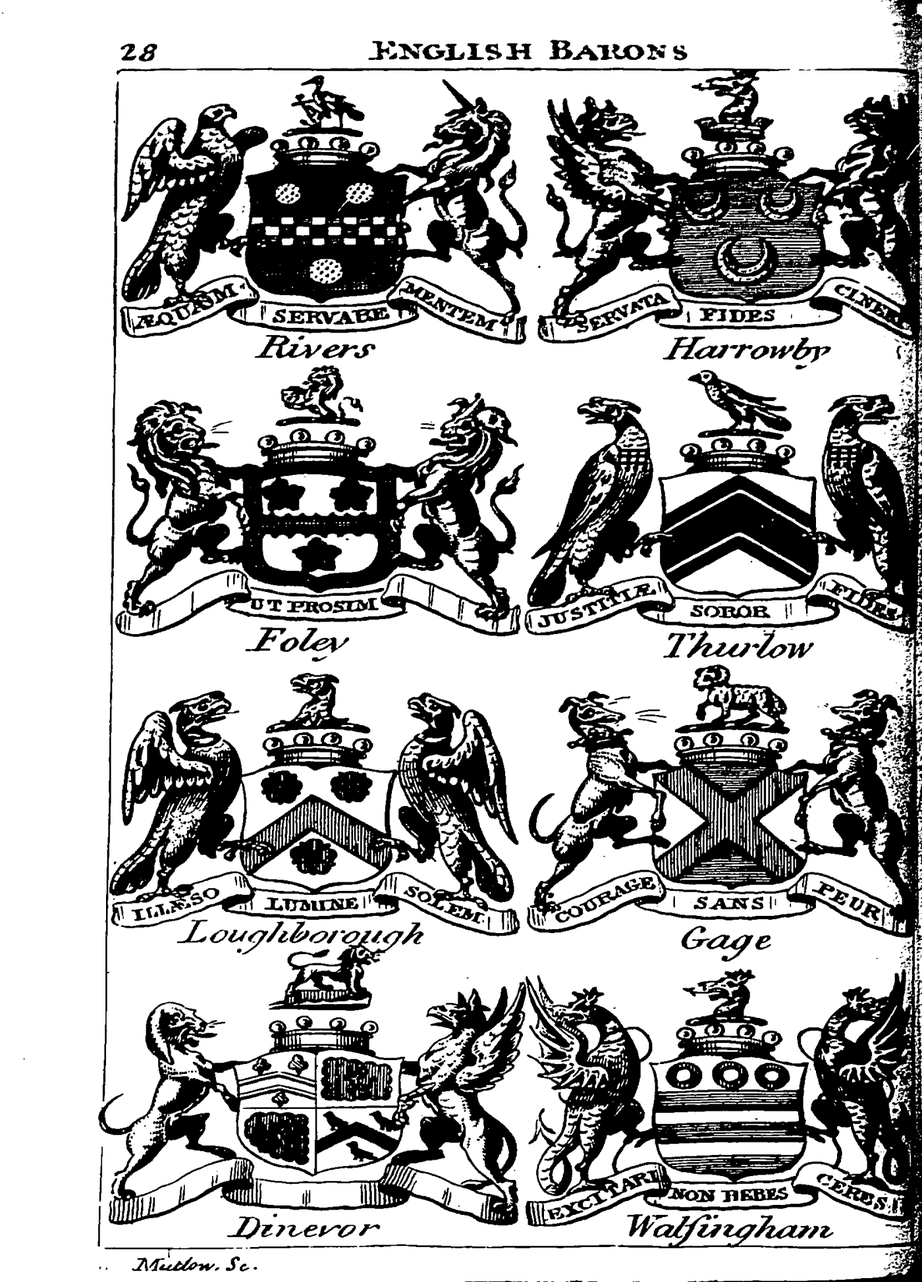coat_of_arms: (99, 659, 524, 958), (111, 944, 526, 1240), (122, 76, 528, 374), (110, 369, 518, 659), (519, 660, 915, 957), (533, 948, 922, 1243), (525, 82, 921, 369), (522, 371, 906, 660)
